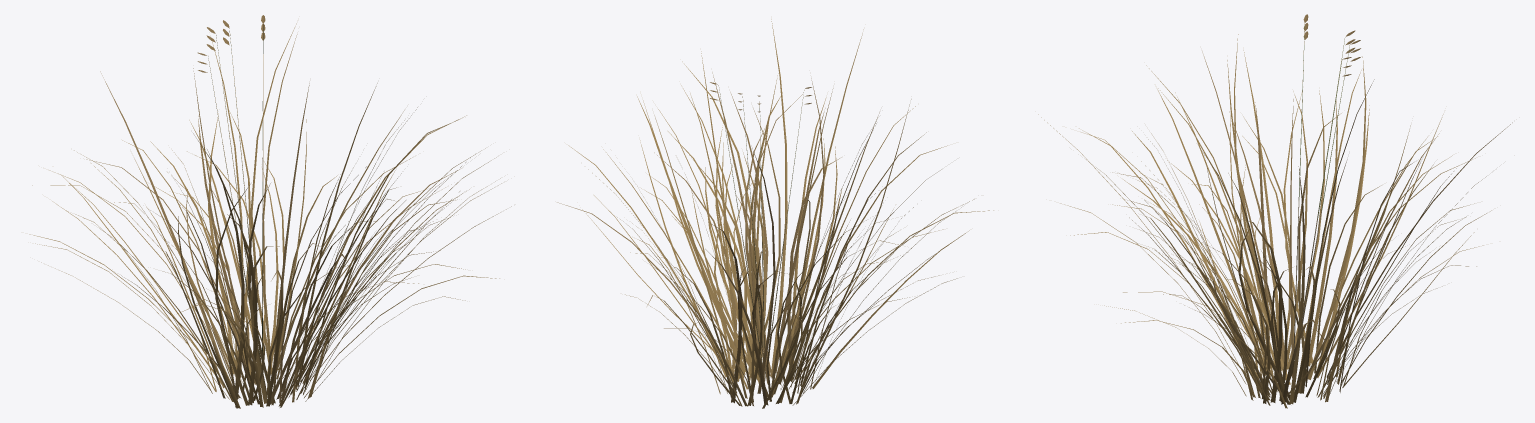
The model's file is SM_CN_Grass_B.fbx.
3 renders of one model, left to right at view 1: azimuth 30°, elevation 25°; view 2: azimuth 150°, elevation 25°; view 3: azimuth 270°, elevation 25°, orthographic. The views are drawn at different scales.
Visible parts, largest first — view 1: SM_CN_Grass_B; view 2: SM_CN_Grass_B; view 3: SM_CN_Grass_B.
Part boxes in pixels (left/top/right/bottom): SM_CN_Grass_B: left=29, top=15, right=511, bottom=408; SM_CN_Grass_B: left=557, top=19, right=993, bottom=408; SM_CN_Grass_B: left=1038, top=14, right=1512, bottom=408.
Size of the model in its own units: 0.88 by 0.8264 by 0.64.
